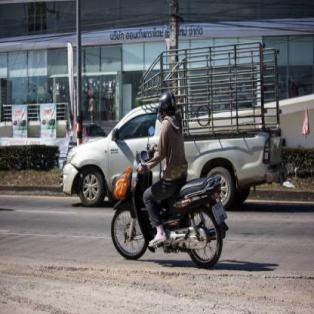Motocicleta: (107, 142, 227, 270)
